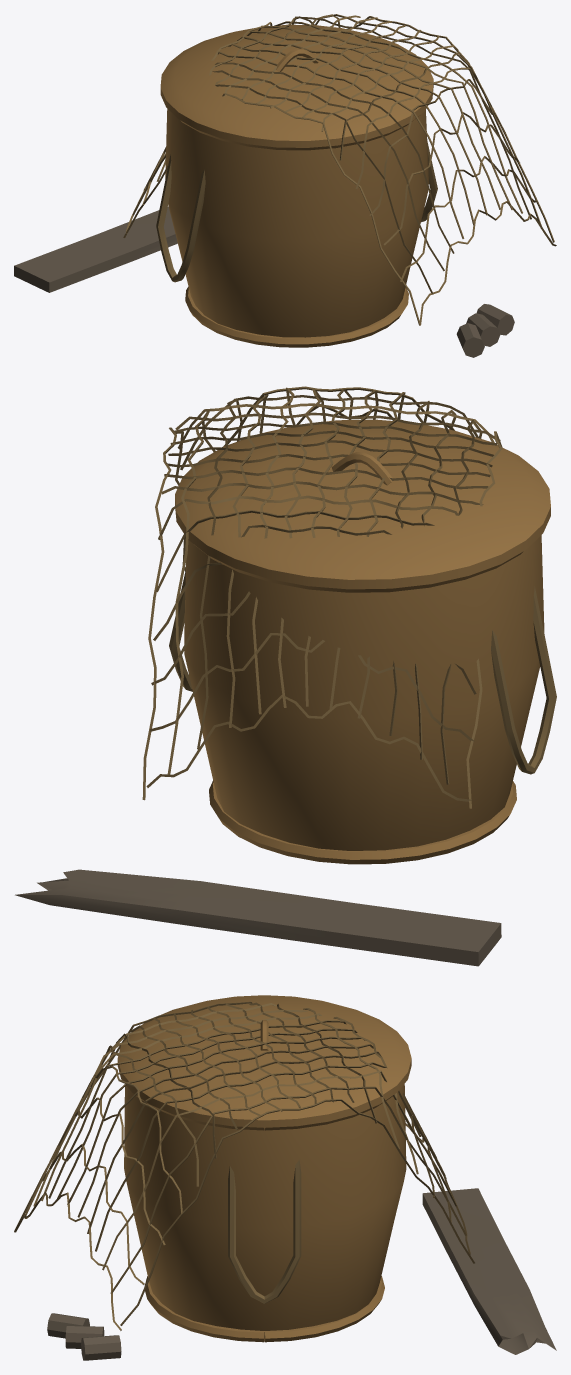
File: fischerkorb.glb
3 views of the same model, one above another, from view 1: azimuth 30°, elevation 25°; view 2: azimuth 150°, elevation 25°; view 3: azimuth 270°, elevation 25° (orthographic). The views are drawn at different scales.
Parts seen in each view (by area): view 1: fischerkorb; view 2: fischerkorb; view 3: fischerkorb.
Part boxes in pixels (x1,y1,x2,y2): fischerkorb: (14, 14, 556, 357); fischerkorb: (15, 386, 556, 966); fischerkorb: (14, 995, 556, 1360).
Bounding box in the file's own units: 1.14 × 0.7435 × 1.33.
